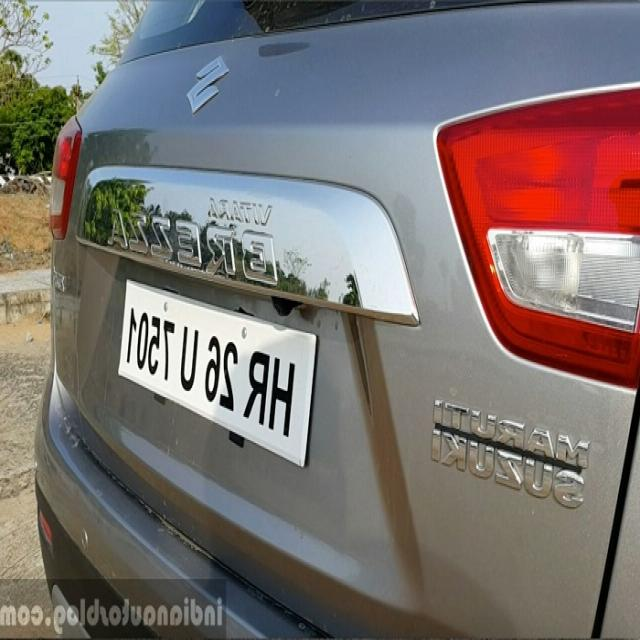number-plate: (98, 251, 342, 510)
